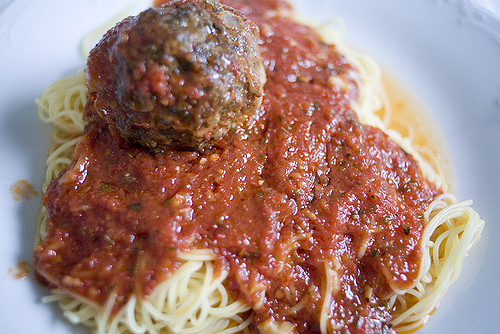meatballs: (104, 21, 251, 133)
plain spaghetti: (181, 267, 245, 334)
